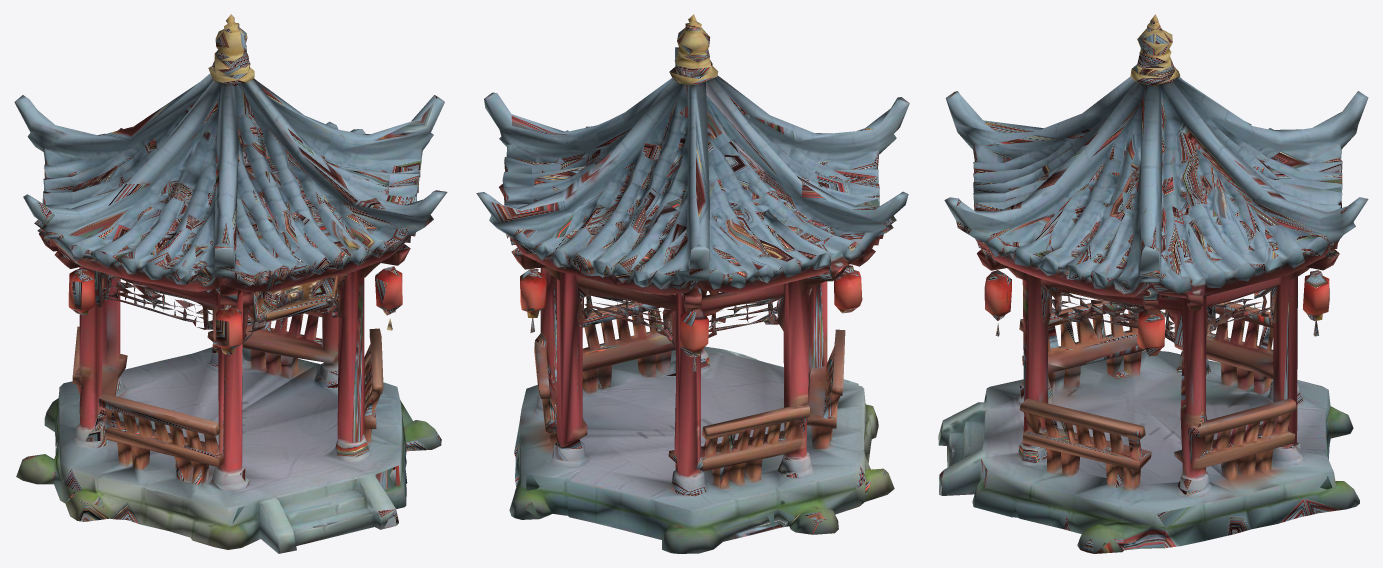
File: pavilion.glb
3 renders of one model, left to right at view 1: azimuth 30°, elevation 25°; view 2: azimuth 150°, elevation 25°; view 3: azimuth 270°, elevation 25°, orthographic.
Parts seen in each view (by area): view 1: node_0; view 2: node_0; view 3: node_0.
Part boxes in pixels (bbox=[...]): node_0: bbox=[14, 14, 447, 553]; node_0: bbox=[476, 14, 909, 553]; node_0: bbox=[938, 14, 1368, 553].
Size of the model in its own units: 0.8626 by 0.8909 by 0.7685.
1 material, 1 textured.
